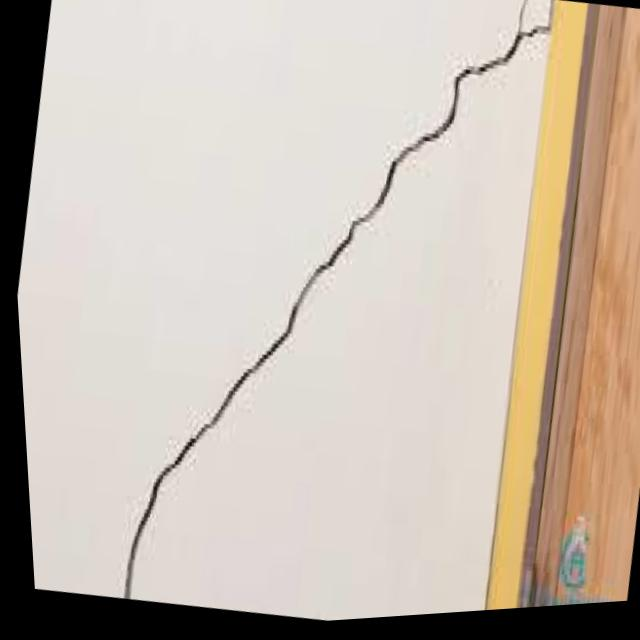Crack: (294, 3, 559, 320), (102, 258, 321, 613)
